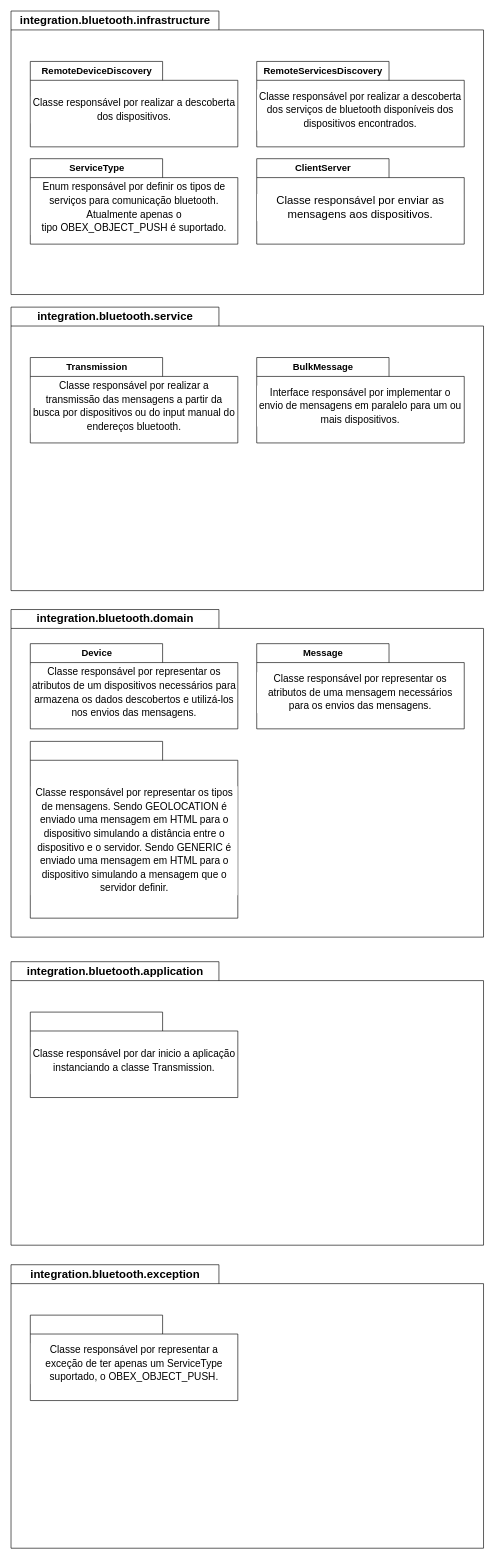
Some shapes in this 495 by 1559 pixel diagram are drawn without their labels. The centre of each missing label's shape, as x and y in pixels:
"Main" belongs at [134,1054].
"MessageType" belongs at [134,829].
"ServiceTypeException" belongs at [134,1357].
